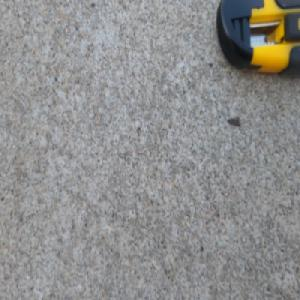Cutter: (212, 0, 300, 80)
